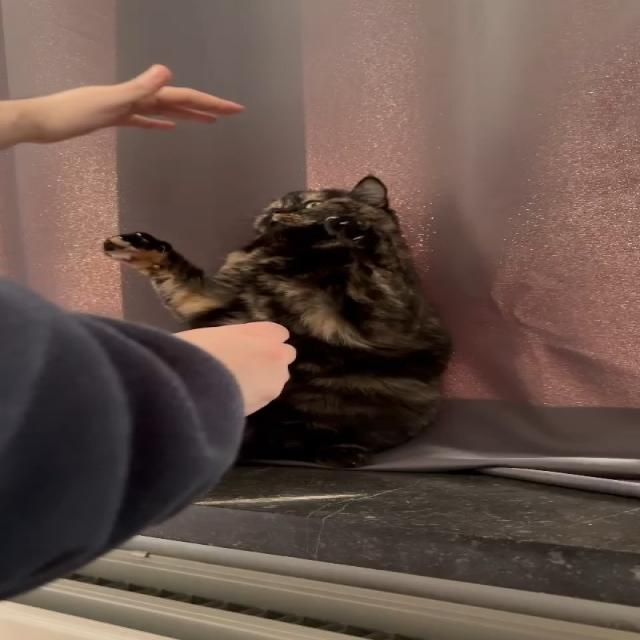authorized: (100, 174, 453, 468)
